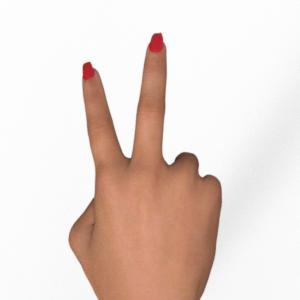scissors: (69, 33, 221, 300)
